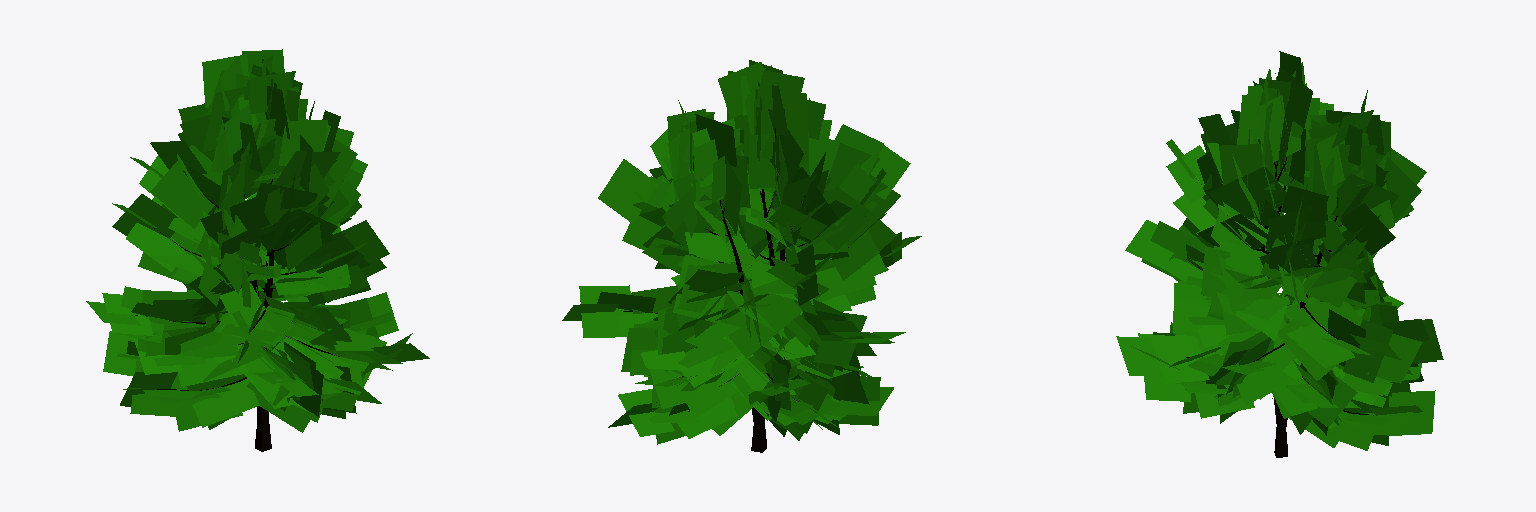
File: tree_v2.obj
3 views of the same model, side by side, from view 1: azimuth 30°, elevation 25°; view 2: azimuth 150°, elevation 25°; view 3: azimuth 270°, elevation 25° (orthographic).
Bounding box in the file's own units: 4.07 × 5.19 × 3.95.